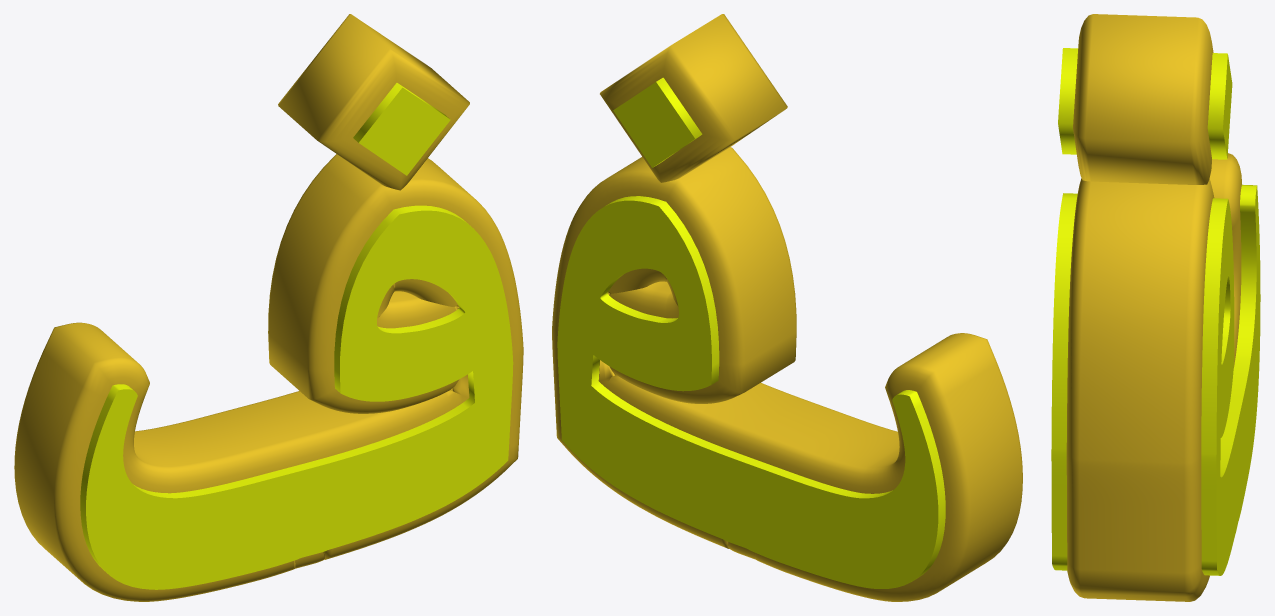
3 renders of one model, left to right at view 1: azimuth 30°, elevation 25°; view 2: azimuth 150°, elevation 25°; view 3: azimuth 270°, elevation 25°, orthographic. The views are drawn at different scales.
Parts seen in each view (by area): view 1: text 2, Text; view 2: text 2, Text; view 3: text 2, Text.
Part boxes in pixels (x1,y1,x2,y2): text 2: (14, 14, 523, 601); Text: (80, 83, 513, 589); text 2: (552, 14, 1022, 601); Text: (557, 77, 945, 588); text 2: (1066, 14, 1241, 601); Text: (1051, 48, 1260, 575).
Size of the model in its own units: 44.86 by 47.82 by 15.36.
